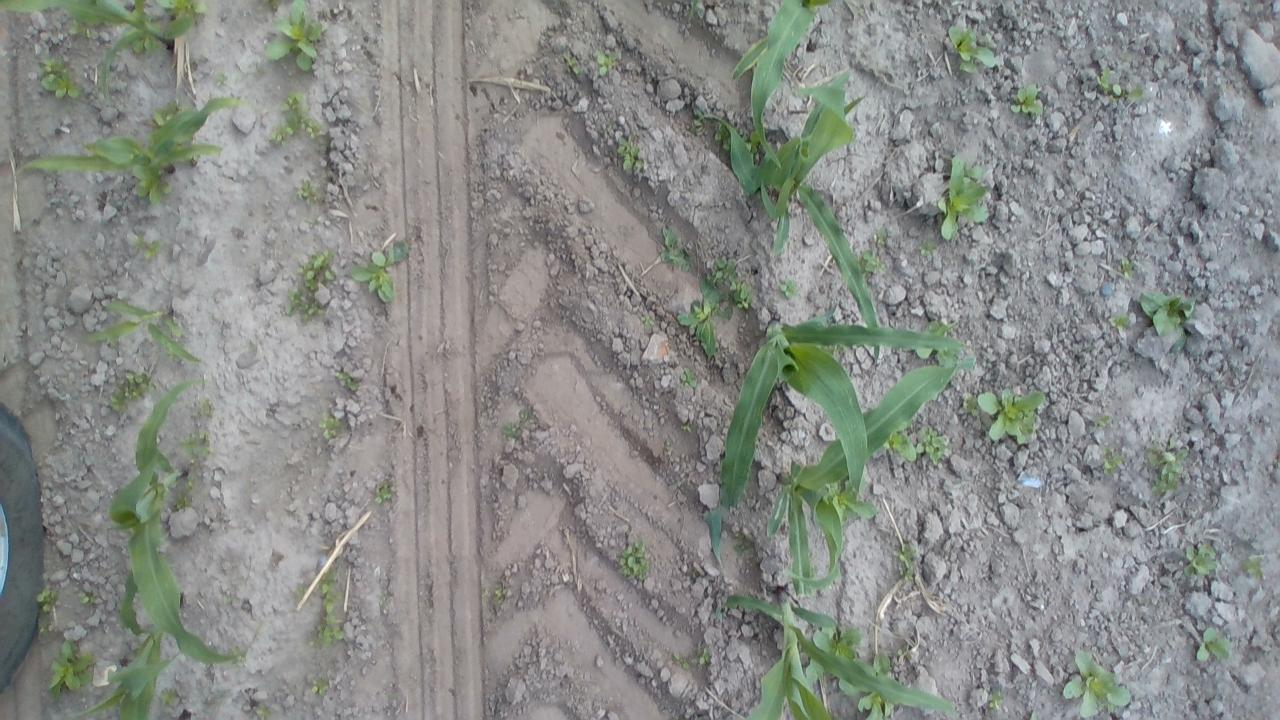Maize: (703, 301, 965, 567), (700, 68, 883, 380), (762, 346, 961, 594), (106, 374, 259, 668), (718, 570, 960, 720), (16, 96, 243, 209), (721, 0, 850, 173), (3, 0, 195, 110), (73, 568, 184, 720), (85, 297, 202, 367)
Weeds: (936, 151, 1000, 246), (1059, 644, 1134, 720), (976, 384, 1052, 456), (675, 270, 733, 361), (280, 240, 338, 324), (259, 0, 322, 76), (346, 234, 410, 308), (940, 17, 999, 77), (46, 635, 95, 707), (1147, 432, 1195, 505), (1136, 286, 1200, 339), (266, 92, 322, 148), (309, 568, 347, 646), (37, 49, 83, 100), (106, 367, 156, 413), (130, 165, 177, 209), (1095, 64, 1145, 104), (654, 222, 694, 272), (913, 424, 956, 468), (1192, 622, 1229, 666), (614, 535, 649, 579), (1180, 541, 1218, 581), (1007, 81, 1048, 118), (887, 426, 922, 469), (178, 428, 210, 475), (814, 625, 860, 656), (616, 131, 644, 174), (500, 406, 534, 439), (157, 0, 209, 20), (893, 542, 919, 582), (317, 404, 344, 442), (857, 694, 893, 720), (130, 229, 162, 258), (714, 252, 738, 288), (190, 397, 217, 428), (594, 47, 620, 79), (294, 176, 322, 204), (1100, 443, 1122, 478), (333, 368, 362, 394), (372, 472, 394, 505), (1238, 551, 1264, 578), (36, 586, 61, 614), (150, 102, 178, 127), (730, 279, 752, 310), (984, 688, 1010, 714), (861, 249, 886, 276), (862, 649, 888, 674), (158, 688, 182, 712), (690, 104, 708, 136), (560, 49, 580, 77), (714, 120, 732, 151), (691, 643, 714, 667), (676, 366, 700, 388), (1117, 254, 1138, 278), (959, 388, 977, 415), (1092, 406, 1114, 428), (1106, 314, 1130, 334), (669, 648, 690, 670), (310, 673, 329, 696), (916, 235, 936, 255), (874, 222, 890, 247), (779, 278, 799, 298), (171, 490, 192, 509), (228, 646, 247, 666), (77, 592, 100, 608), (250, 702, 270, 720), (732, 536, 752, 554), (378, 585, 392, 610), (687, 0, 701, 23), (639, 314, 658, 330), (211, 72, 227, 88), (1118, 48, 1132, 66), (898, 646, 913, 662), (181, 475, 196, 489), (679, 422, 698, 433), (494, 584, 507, 600), (479, 586, 492, 599), (222, 595, 234, 606), (305, 218, 318, 228), (294, 580, 304, 592)
